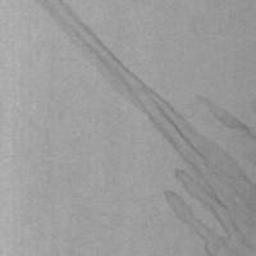Water spot: (46, 0, 256, 256), (197, 92, 256, 137)
